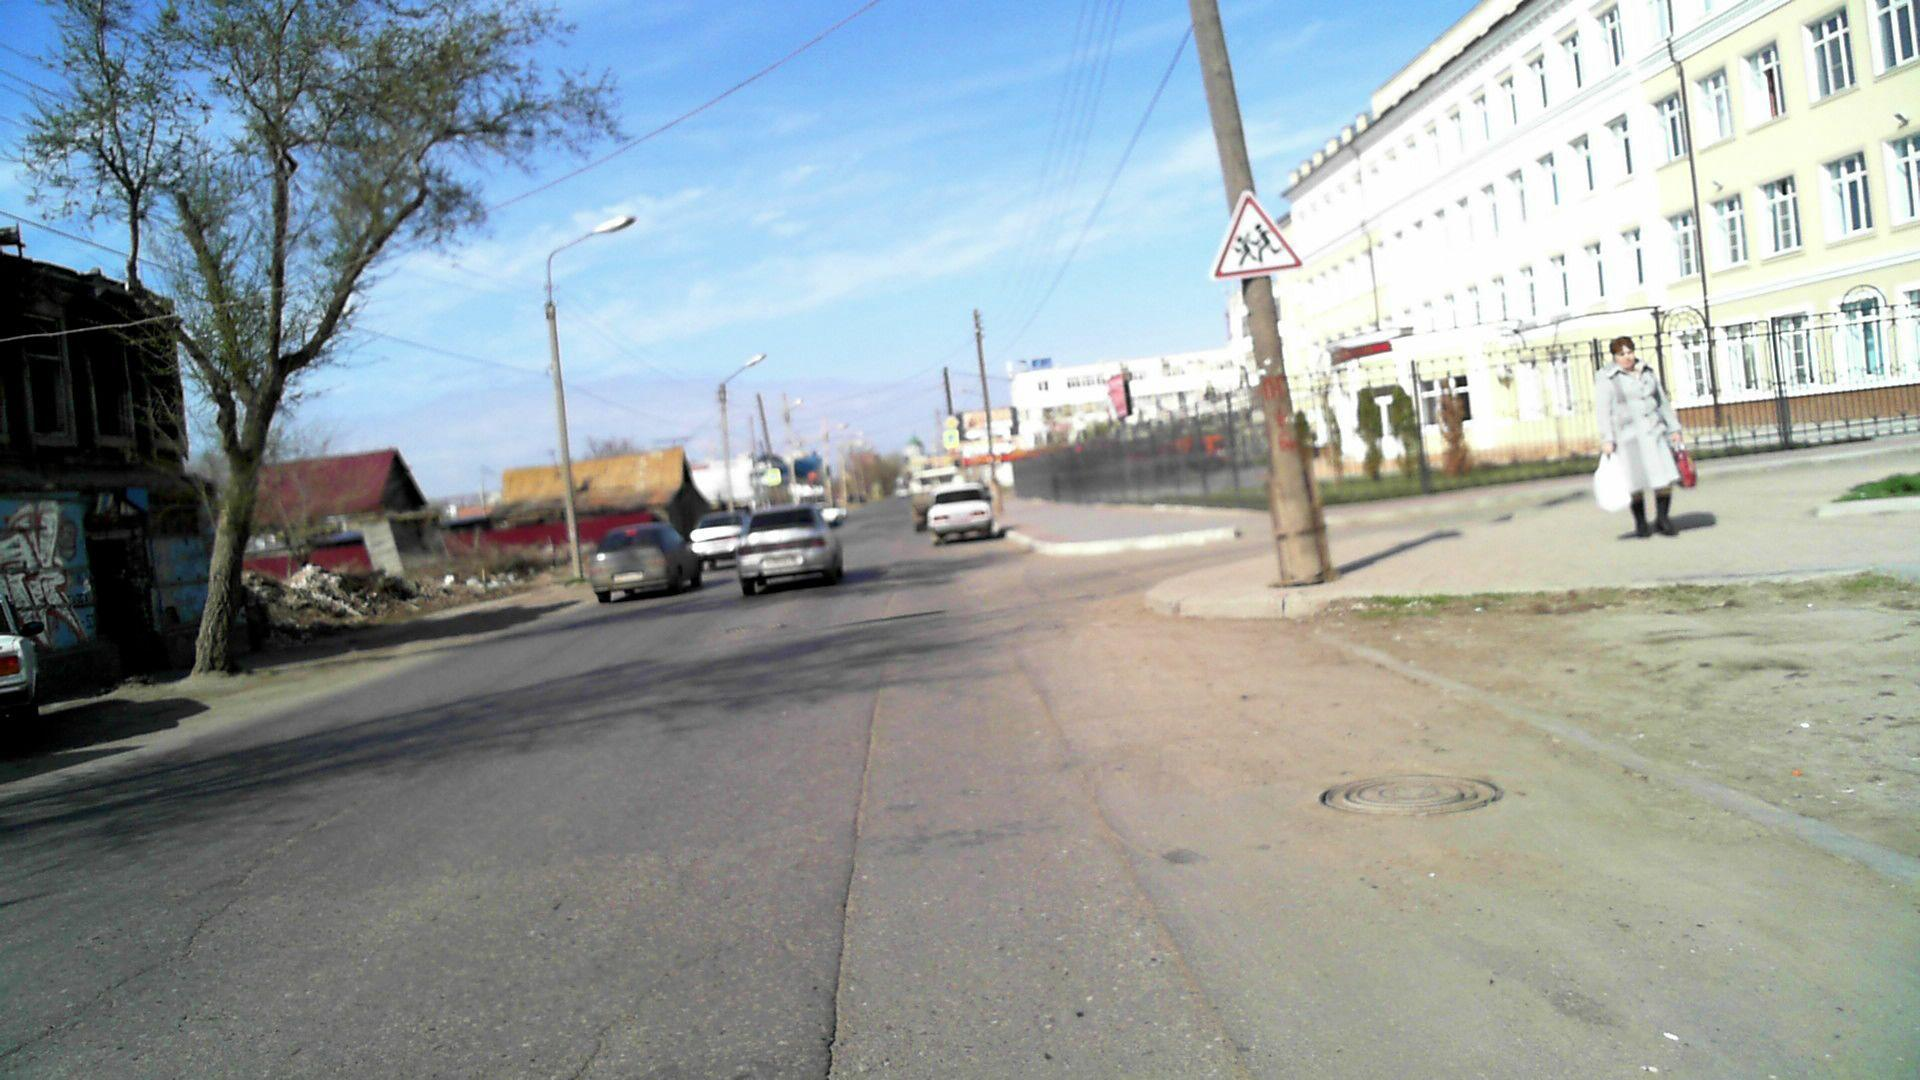1_23: (1213, 189, 1303, 280)
